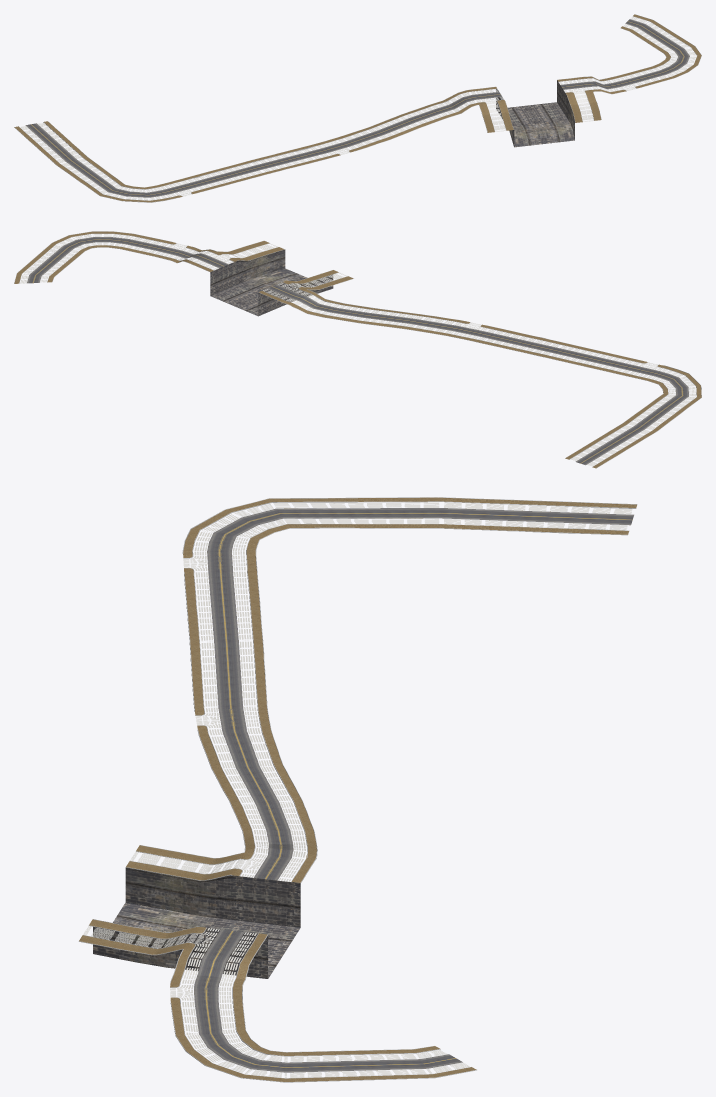
Rendered from CanaleFirst.fbx.
3 renders of one model, top to bottom at view 1: azimuth 30°, elevation 25°; view 2: azimuth 150°, elevation 25°; view 3: azimuth 270°, elevation 25°, orthographic. The views are drawn at different scales.
Visible parts, largest first — view 1: CanaleFirst; view 2: CanaleFirst; view 3: CanaleFirst.
Boxes of the visible parts, x1,y1,x2,y2 form: CanaleFirst: [14, 14, 701, 202]; CanaleFirst: [14, 231, 701, 468]; CanaleFirst: [78, 497, 637, 1082].
Bounding box in the file's own units: 36070 × 1288 × 14532.
